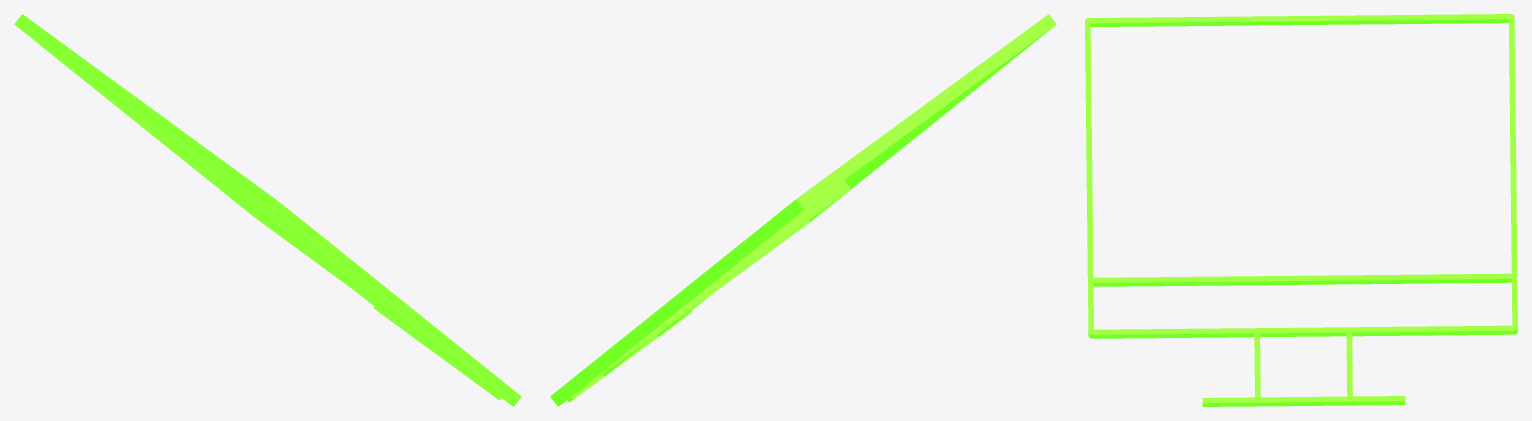
File: image_on.glb
The picture shows the model from 3 angles, left to right: view 1: azimuth 30°, elevation 25°; view 2: azimuth 150°, elevation 25°; view 3: azimuth 270°, elevation 25°; orthographic projection. The views are drawn at different scales.
Visible parts, largest first — view 1: image_on; view 2: image_on; view 3: image_on.
Boxes of the visible parts, x1=… form: image_on: x1=14, y1=14, x2=521, y2=406; image_on: x1=550, y1=14, x2=1056, y2=406; image_on: x1=1085, y1=14, x2=1517, y2=406.
Size of the model in its own units: 0.0327 by 0.0326 by 0.047.
